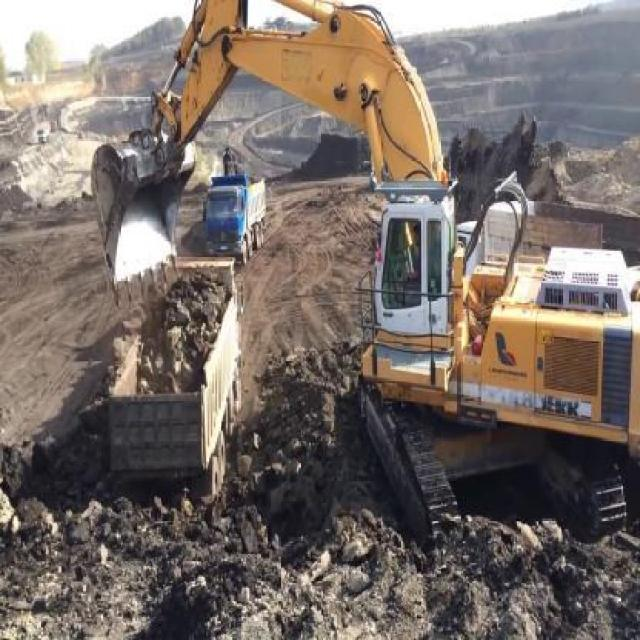Dump Truck: (107, 255, 241, 500), (202, 172, 267, 266)
Excavator: (87, 0, 640, 556)
